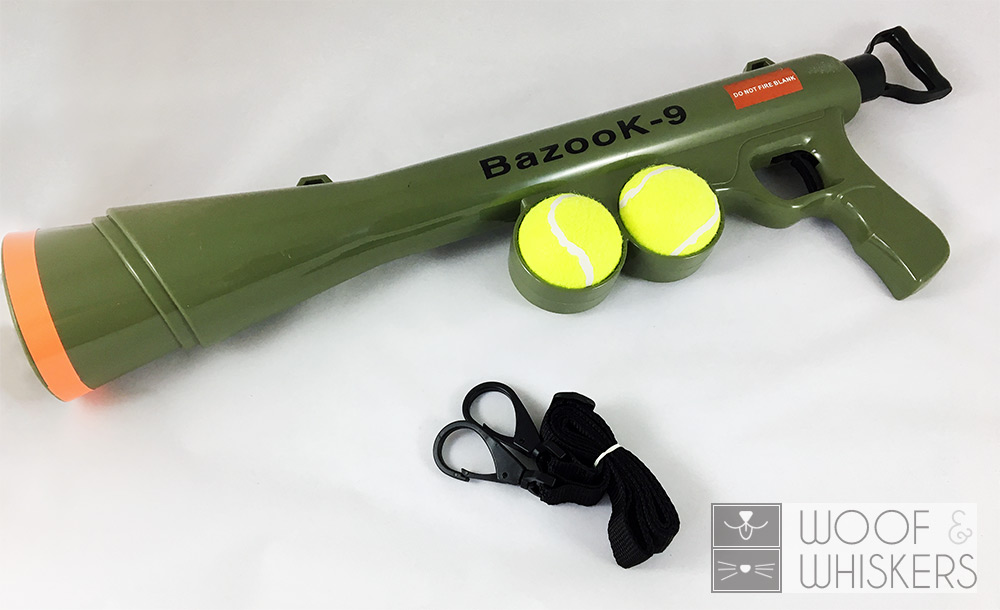tennis_ball: (517, 192, 626, 293), (619, 164, 720, 257)
